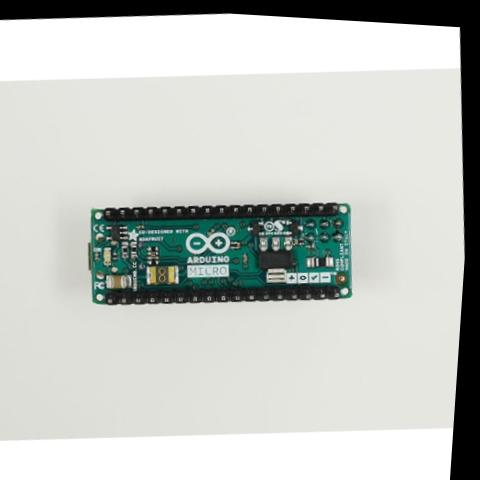Arduino-Micro: (81, 178, 370, 322)
